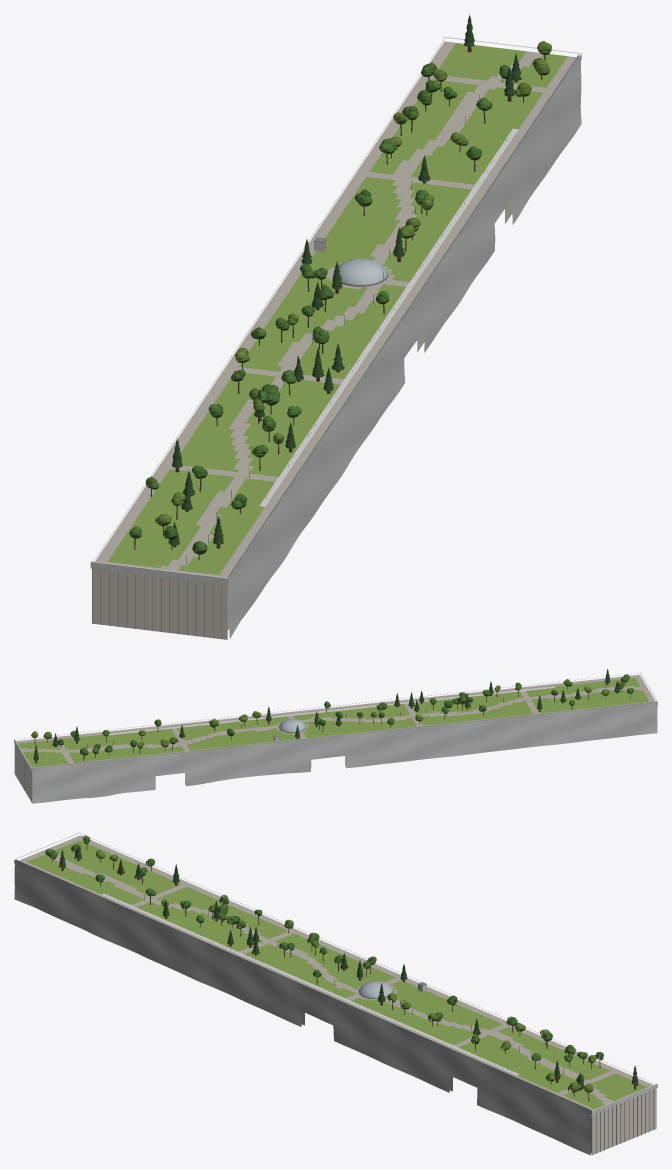
The model's file is transit_lod0.glb.
3 renders of one model, top to bottom at view 1: azimuth 30°, elevation 25°; view 2: azimuth 150°, elevation 25°; view 3: azimuth 270°, elevation 25°, orthographic. The views are drawn at different scales.
Visible parts, largest first — view 1: L0_grass, L0_paint, L0_paving, L0_leaf, L0_shop, L0_water, L0_metal, L0_glassc, L0_bark; view 2: L0_paint, L0_grass, L0_paving, L0_leaf, L0_metal, L0_glassc, L0_water, L0_shop, L0_bark; view 3: L0_paint, L0_grass, L0_paving, L0_leaf, L0_shop, L0_metal, L0_water, L0_glassc, L0_bark.
Part boxes in pixels (box(x1,y1,x2,y2)): L0_grass: box(107, 43, 567, 574); L0_paint: box(90, 36, 581, 638); L0_paving: box(95, 41, 576, 577); L0_leaf: box(129, 14, 551, 554); L0_shop: box(92, 199, 512, 639); L0_water: box(259, 128, 518, 506); L0_metal: box(92, 38, 578, 639); L0_glassc: box(227, 55, 578, 577); L0_bark: box(134, 46, 545, 560); L0_paint: box(14, 672, 657, 803); L0_grass: box(18, 678, 649, 767); L0_paving: box(16, 675, 655, 767); L0_leaf: box(31, 669, 634, 760); L0_metal: box(14, 673, 657, 801); L0_glassc: box(32, 702, 654, 768); L0_water: box(109, 686, 554, 735); L0_shop: box(15, 736, 462, 802); L0_bark: box(34, 682, 630, 763); L0_paint: box(14, 832, 657, 1155); L0_grass: box(27, 840, 647, 1108); L0_paving: box(19, 835, 652, 1109); L0_leaf: box(45, 835, 638, 1092); L0_shop: box(301, 985, 656, 1154); L0_metal: box(16, 833, 654, 1155); L0_water: box(102, 892, 519, 1075); L0_glassc: box(16, 860, 591, 1110); L0_bark: box(52, 844, 636, 1100).
Bounding box in the file's own units: 344 × 38.71 × 336.
